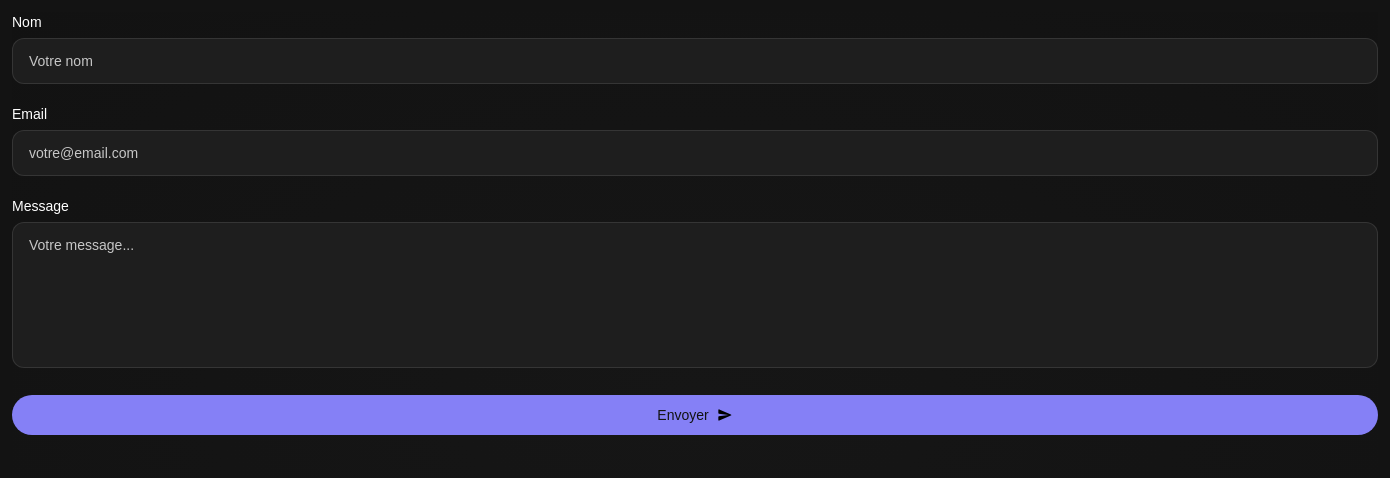
ContactForm in fr › reports an invalid email in the current language
The width and height of the screenshot is (1390, 478).
Type "Alex Martin" into the field labelled "Nom" at (695, 61), box [12,38,1378,84]
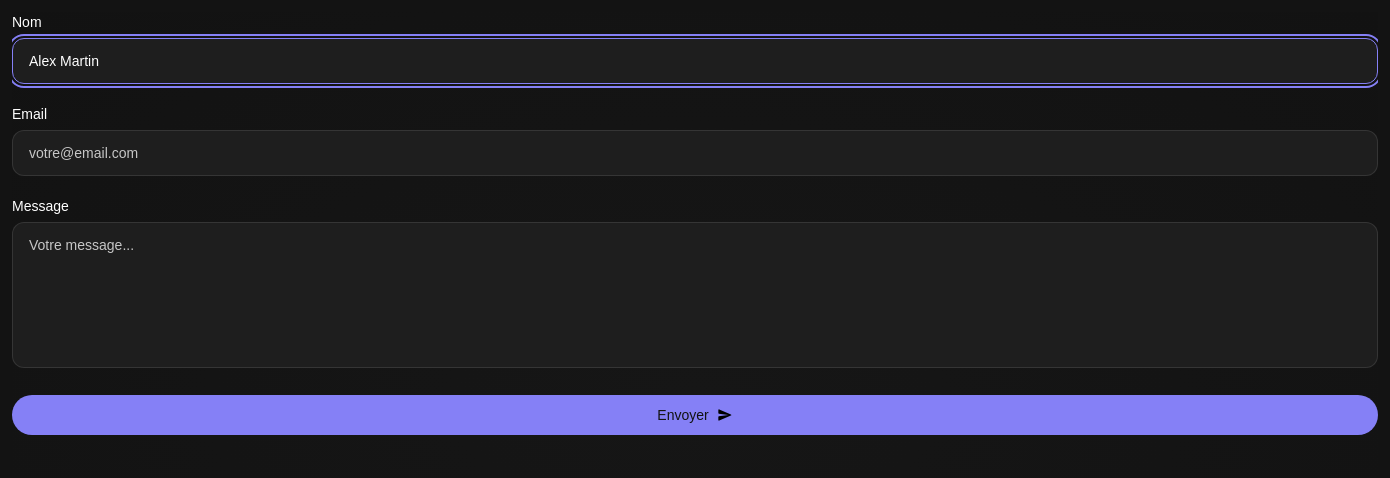
Type "alex@invalide" into the field labelled "Email" at (695, 153), box [12,130,1378,176]
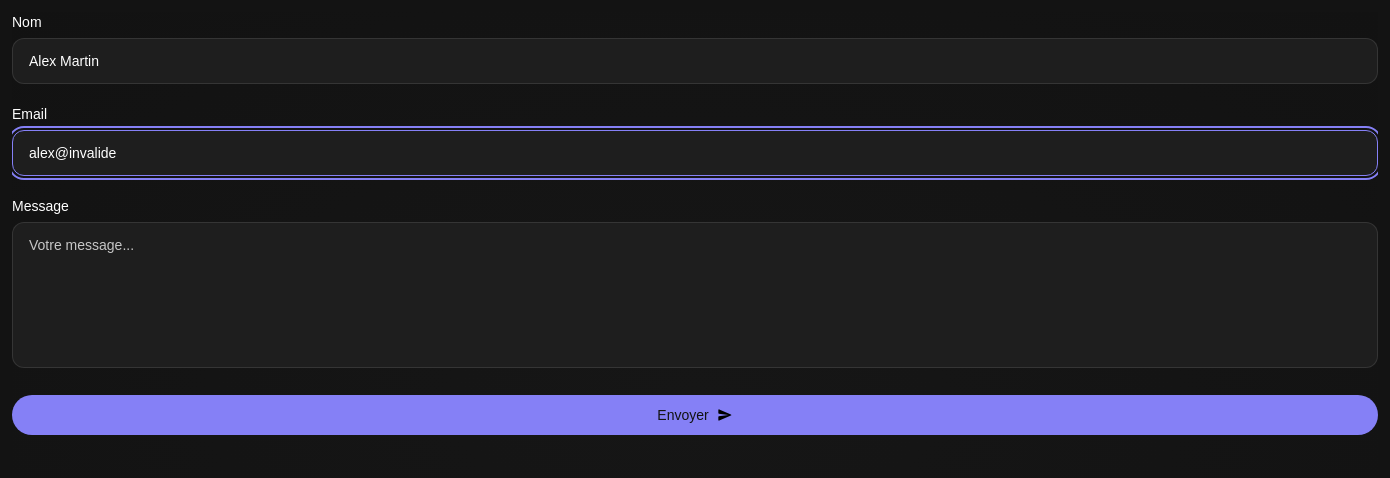
Type "Un message assez long." into the text box labelled "Message" at (695, 295), box [12,222,1378,368]
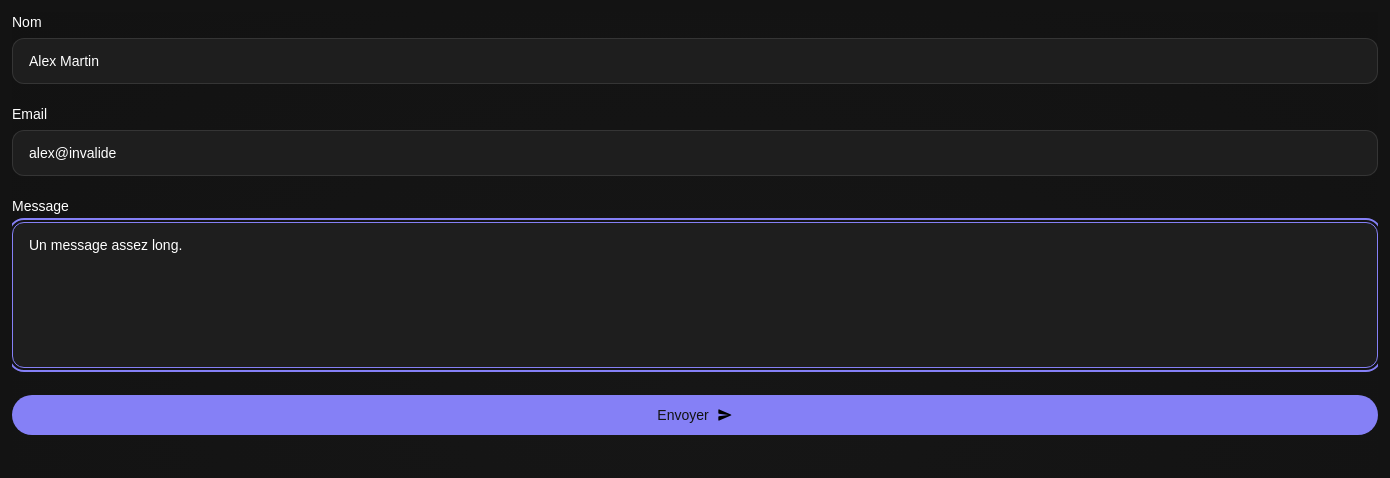
Click the button "Envoyer" at (695, 415), box [12,395,1378,435]
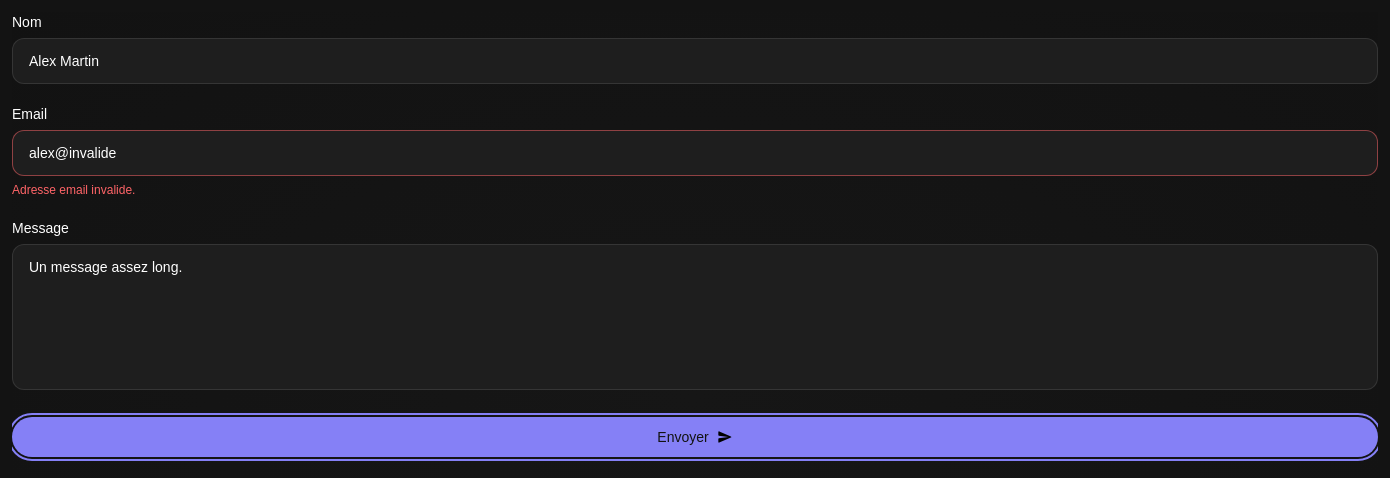
Expected: the text "Adresse email invalide." is shown, [12,183,135,197]
